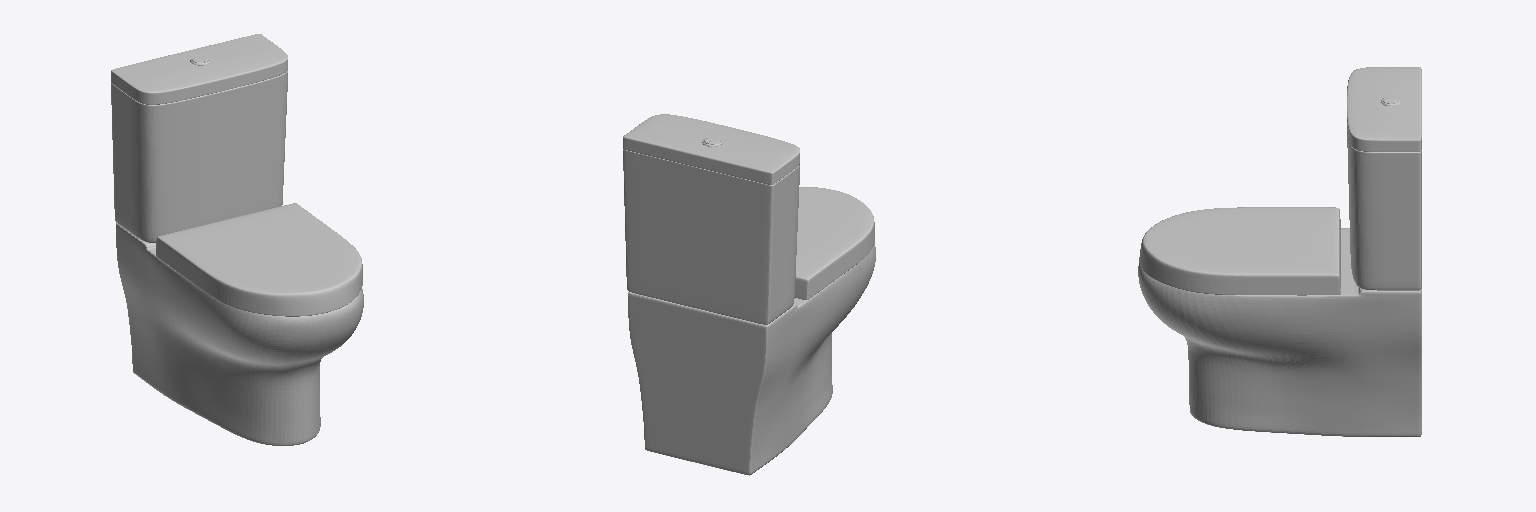
The model's file is toilet.obj.
3 views of the same model, side by side, from view 1: azimuth 30°, elevation 25°; view 2: azimuth 150°, elevation 25°; view 3: azimuth 270°, elevation 25° (orthographic).
Visible parts, largest first — view 1: Obj3d66_508876_7_293, Obj3d66_508876_2_601, Obj3d66_508876_1_468, Obj3d66_508876_6_620; view 2: Obj3d66_508876_7_293, Obj3d66_508876_2_601, Obj3d66_508876_6_620, Obj3d66_508876_1_468; view 3: Obj3d66_508876_7_293, Obj3d66_508876_1_468, Obj3d66_508876_2_601, Obj3d66_508876_6_620.
Part boxes in pixels (x1,y1,x2,y2): Obj3d66_508876_7_293: (116, 223, 363, 445); Obj3d66_508876_2_601: (111, 71, 287, 242); Obj3d66_508876_1_468: (156, 203, 362, 316); Obj3d66_508876_6_620: (111, 34, 287, 104); Obj3d66_508876_7_293: (628, 243, 875, 475); Obj3d66_508876_2_601: (623, 149, 799, 324); Obj3d66_508876_6_620: (623, 114, 799, 184); Obj3d66_508876_1_468: (795, 187, 874, 299); Obj3d66_508876_7_293: (1138, 228, 1421, 436); Obj3d66_508876_1_468: (1139, 207, 1340, 295); Obj3d66_508876_2_601: (1347, 133, 1421, 290); Obj3d66_508876_6_620: (1347, 67, 1421, 151).
Bounding box in the file's own units: 42.15 × 83.55 × 68.75.